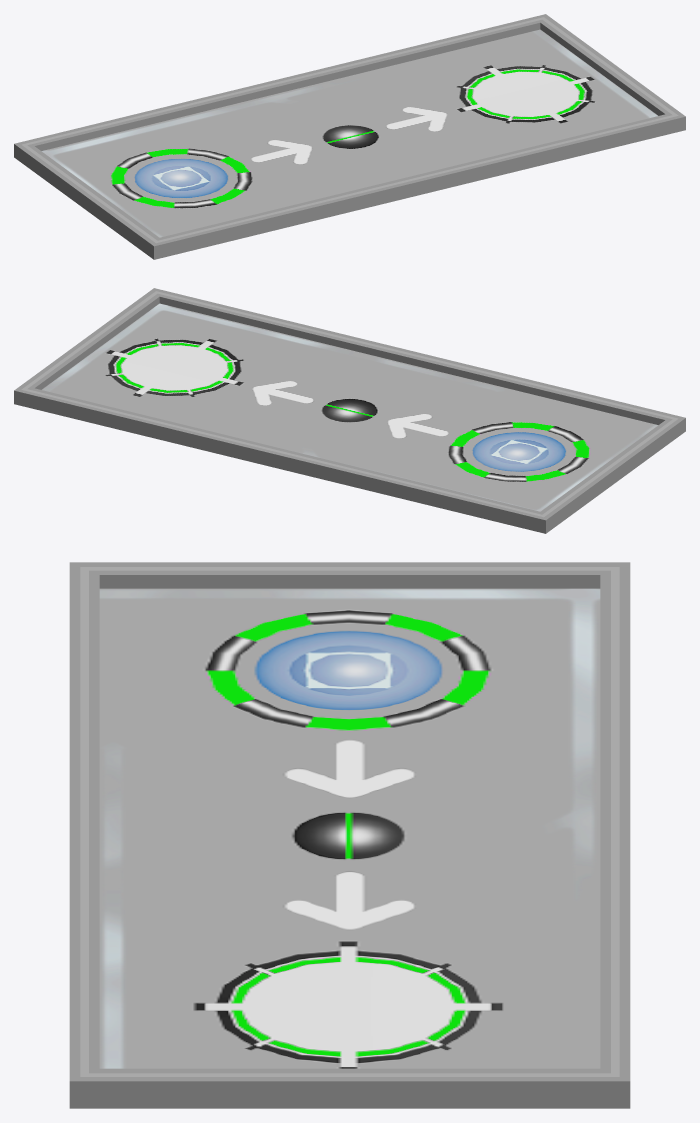
Rendered from SM_L1_Card1.fbx.
The picture shows the model from 3 angles, top to bottom: view 1: azimuth 30°, elevation 25°; view 2: azimuth 150°, elevation 25°; view 3: azimuth 270°, elevation 25°; orthographic projection. The views are drawn at different scales.
Parts seen in each view (by area): view 1: SM_L1_Card1; view 2: SM_L1_Card1; view 3: SM_L1_Card1.
Part boxes in pixels (x1,y1,x2,y2): SM_L1_Card1: (14,14,685,259); SM_L1_Card1: (14,288,685,533); SM_L1_Card1: (69,562,630,1108).
Size of the model in its own units: 295 by 7.2 by 135.
